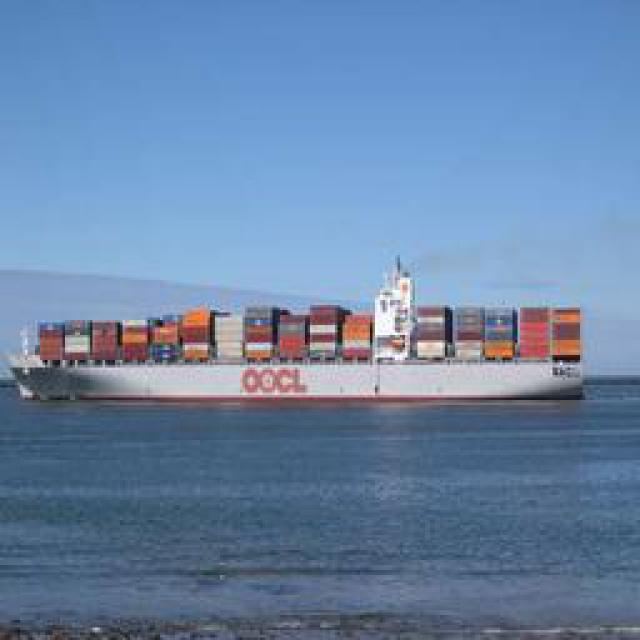Ship: (17, 300, 597, 405)
